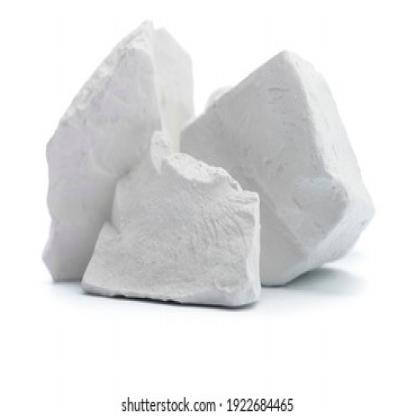Sedimentary_Chalk: (35, 13, 377, 314)
